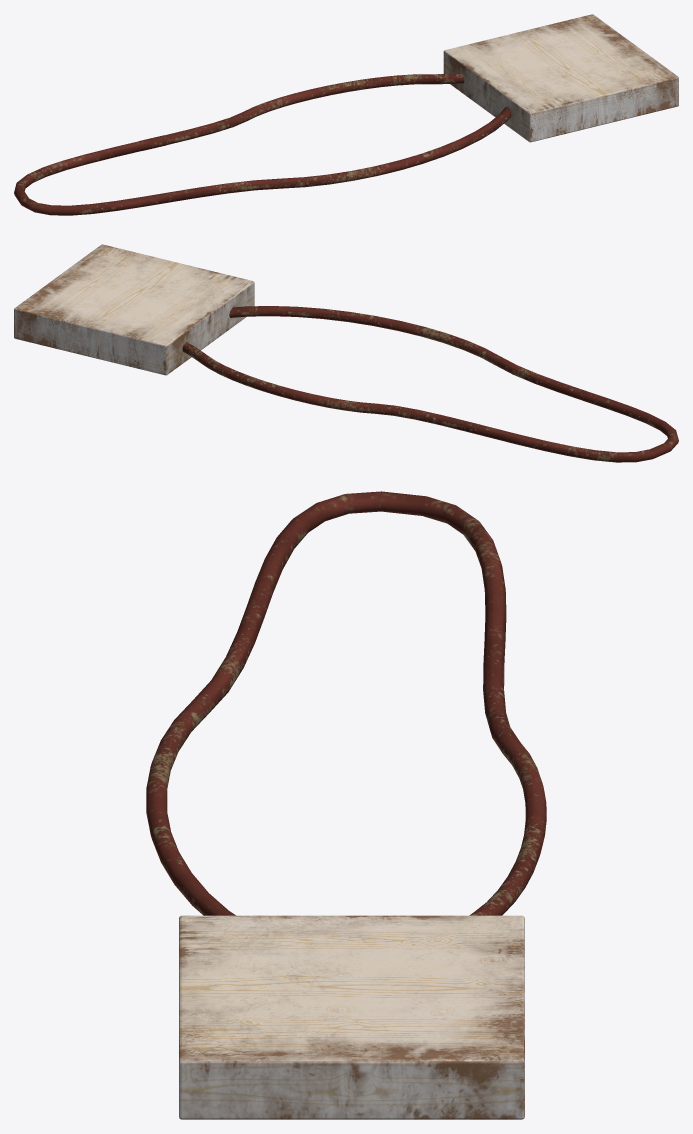
Rendered from talisman carre.fbx.
3 renders of one model, top to bottom at view 1: azimuth 30°, elevation 25°; view 2: azimuth 150°, elevation 25°; view 3: azimuth 270°, elevation 25°, orthographic. The views are drawn at different scales.
Parts seen in each view (by area): view 1: talisman carré; view 2: talisman carré; view 3: talisman carré.
Boxes of the visible parts, left/top/right/bottom form: talisman carré: left=14, top=14, right=678, bottom=215; talisman carré: left=14, top=244, right=678, bottom=462; talisman carré: left=146, top=491, right=546, bottom=1119.
Bounding box in the file's own units: 71.3 × 3.34 × 20.34.
Materials: 1 (1 with a texture image).
